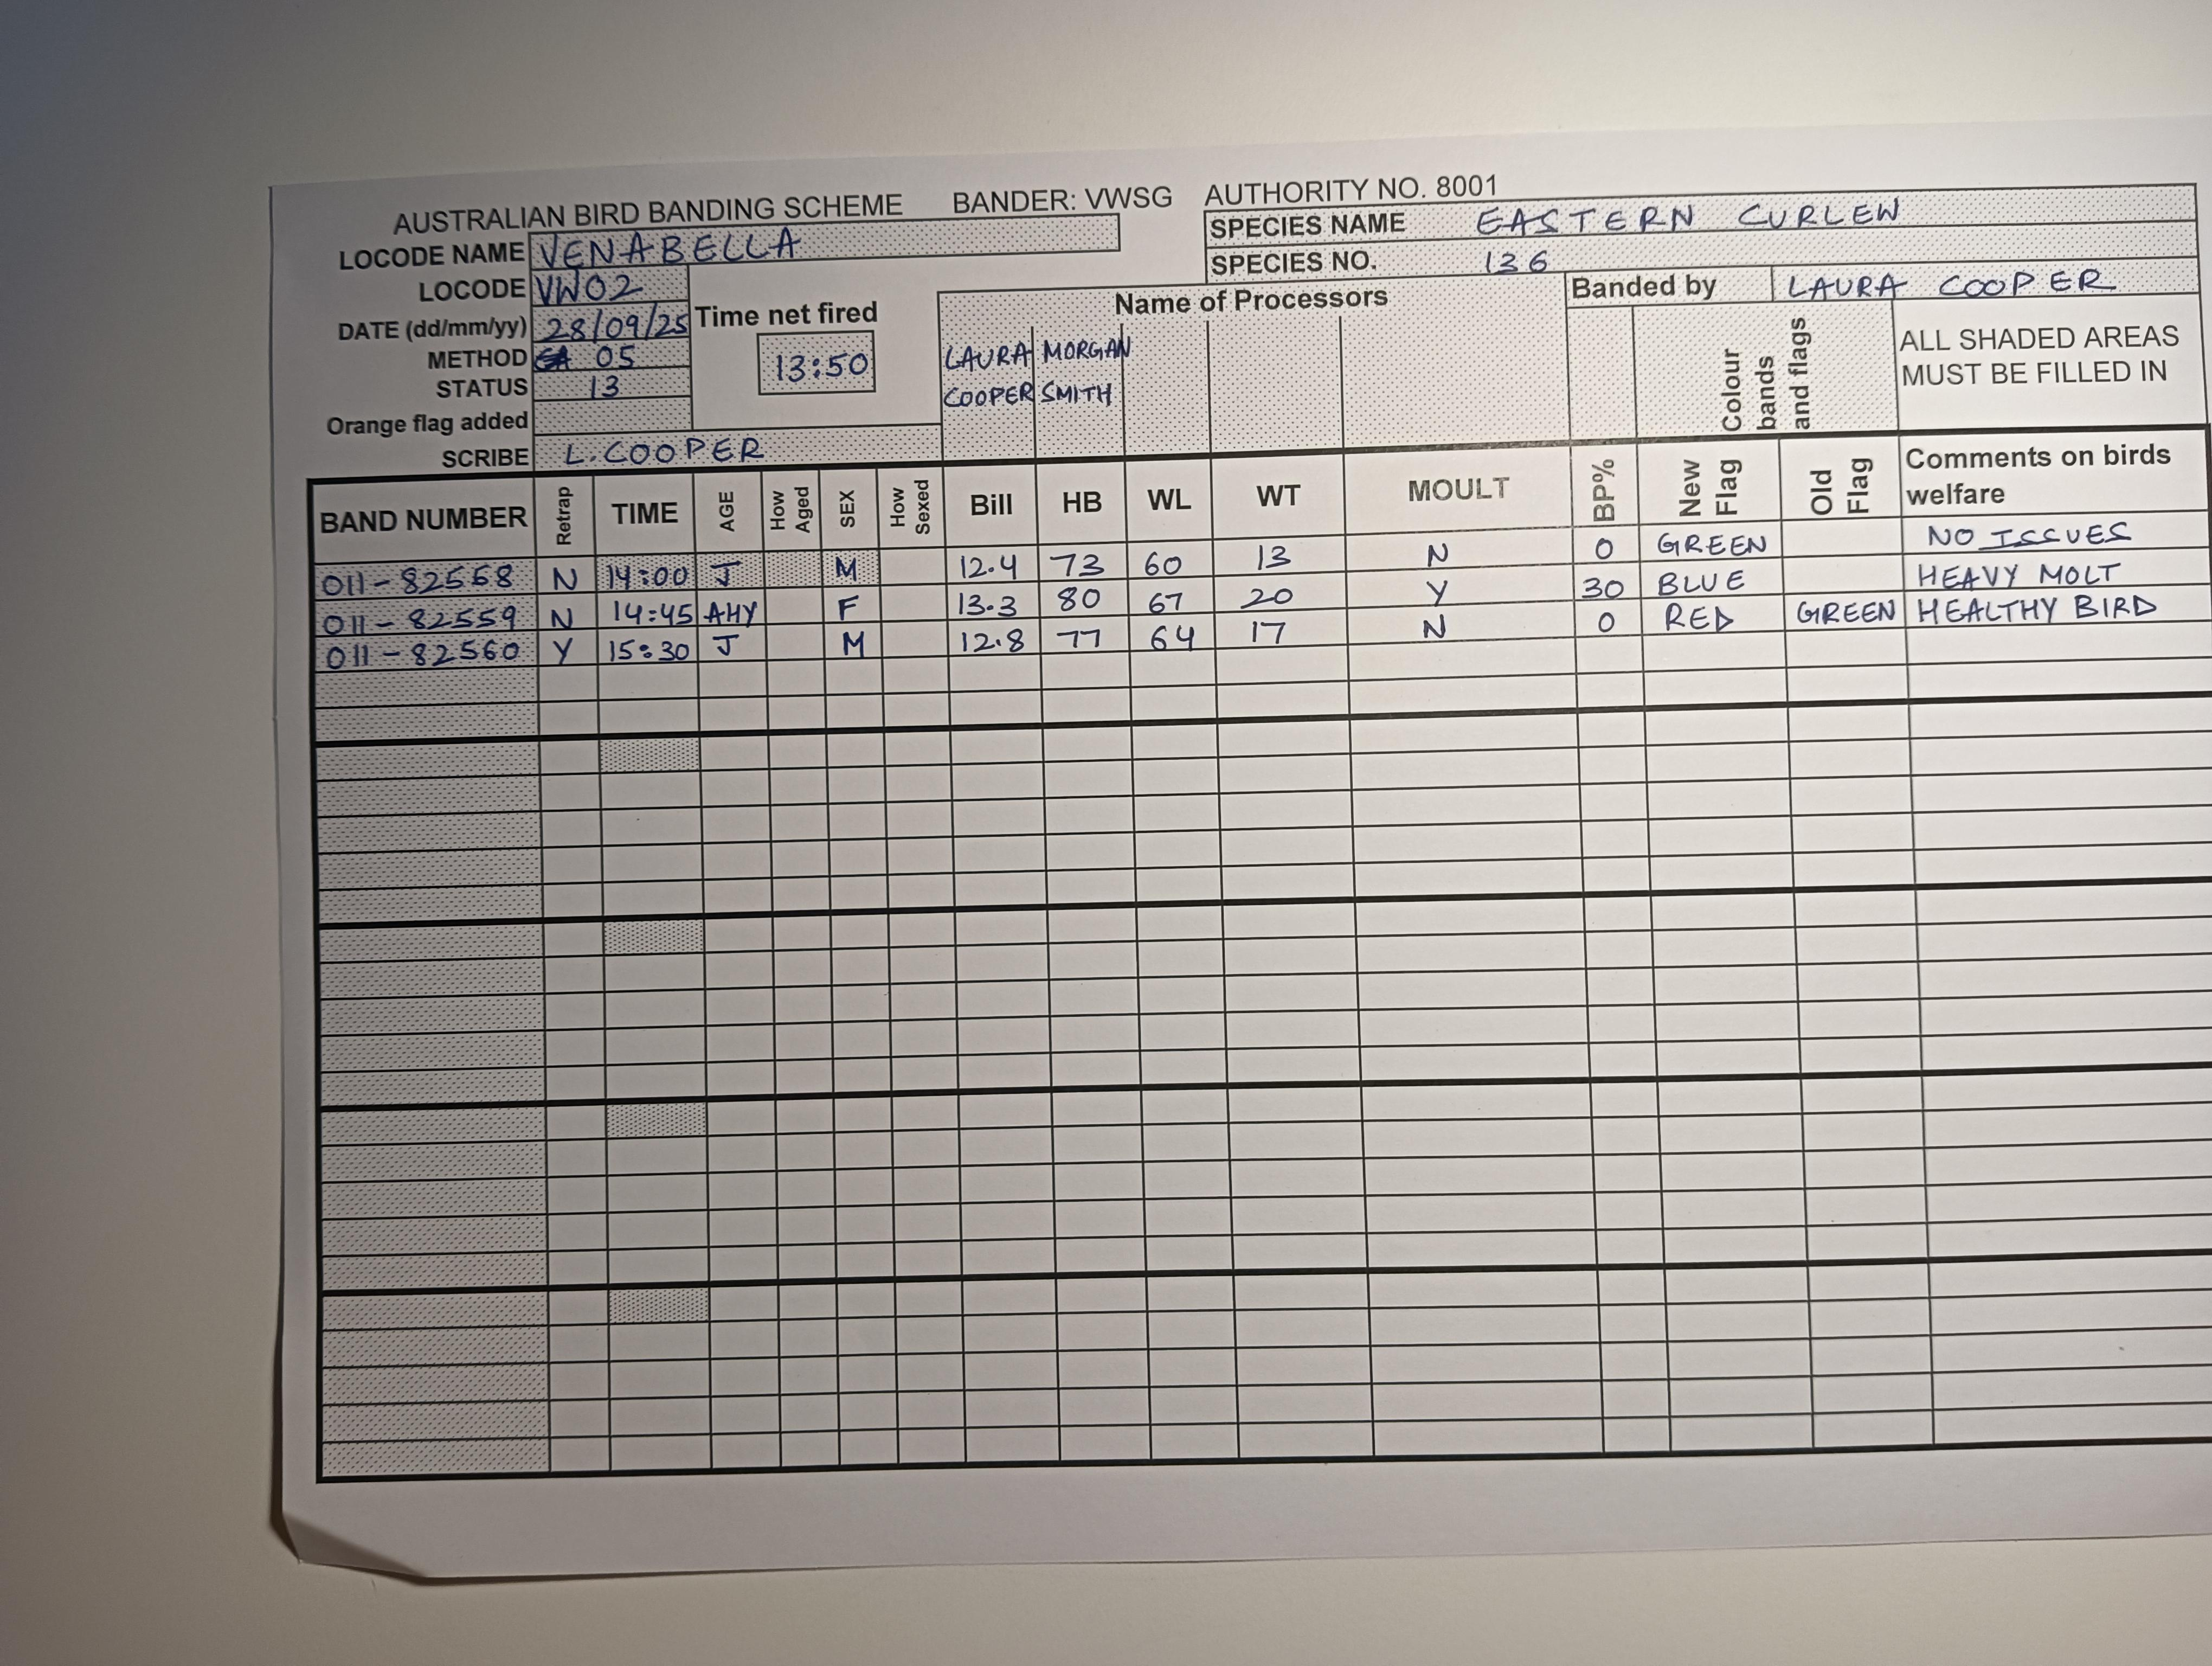BANDED_BY: (1567, 261, 2200, 306)
DATA: (311, 548, 2203, 639), (311, 509, 2210, 598), (308, 586, 2207, 668)
DATE: (327, 301, 698, 346)
LOCOCODE: (372, 264, 696, 313)
LOCOCODE_NAME: (327, 215, 1119, 285)
METHOD: (406, 332, 696, 373)
NAME_OF_PROCESSORS: (937, 318, 1040, 460), (1035, 322, 1138, 457)
ORANGE_FLAG_ADDED: (318, 396, 687, 441)
SCRIBE: (432, 422, 951, 478)
SPECIES_NAME: (1207, 189, 2196, 245)
SPECIES_NO: (1212, 221, 2202, 282)
STATUS: (411, 367, 698, 401)
TIME_NET_FIRED: (692, 282, 895, 410)
